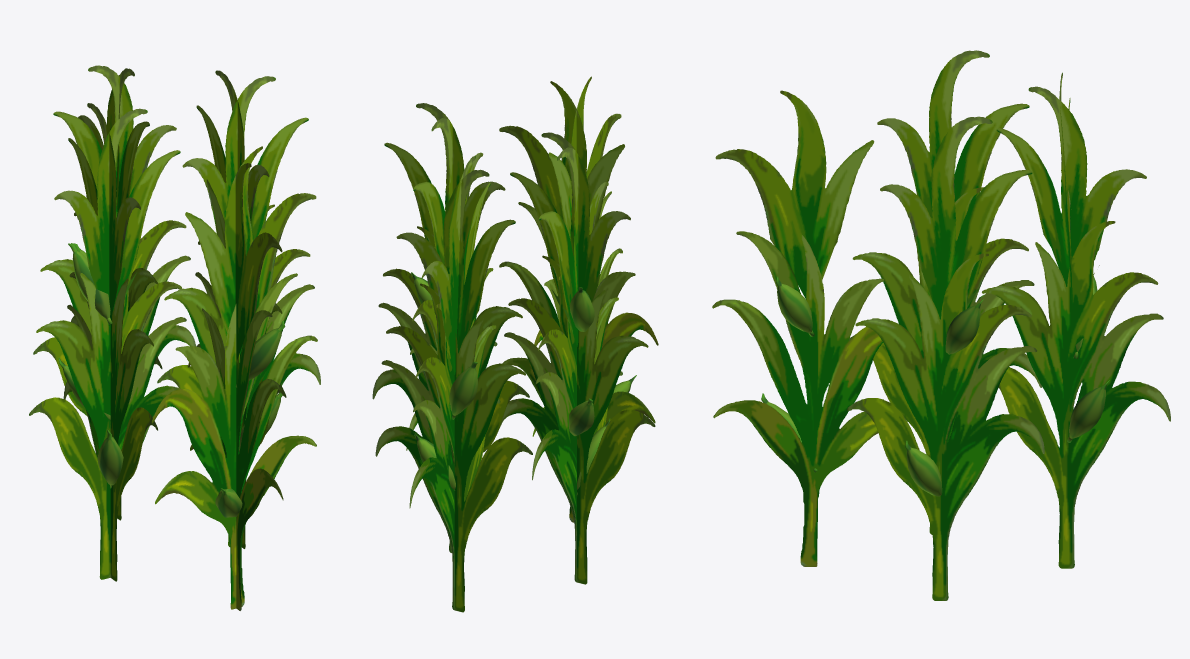
File: Corn_Step02.fbx
3 views of the same model, side by side, from view 1: azimuth 30°, elevation 25°; view 2: azimuth 150°, elevation 25°; view 3: azimuth 270°, elevation 25° (orthographic). The views are drawn at different scales.
Parts seen in each view (by area): view 1: Corn_Step02; view 2: Corn_Step02; view 3: Corn_Step02.
Boxes of the visible parts, bbox=[...] form: Corn_Step02: bbox=[29, 65, 320, 610]; Corn_Step02: bbox=[372, 76, 658, 612]; Corn_Step02: bbox=[712, 50, 1170, 600].
Bounding box in the file's own units: 211 × 313 × 261.
